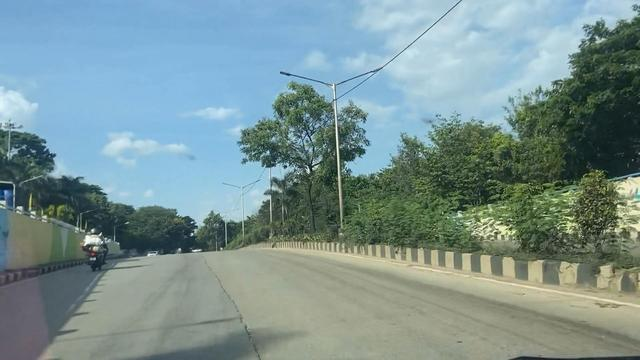LMV: (86, 228, 107, 272)
RoadDamages: (203, 256, 266, 360)
